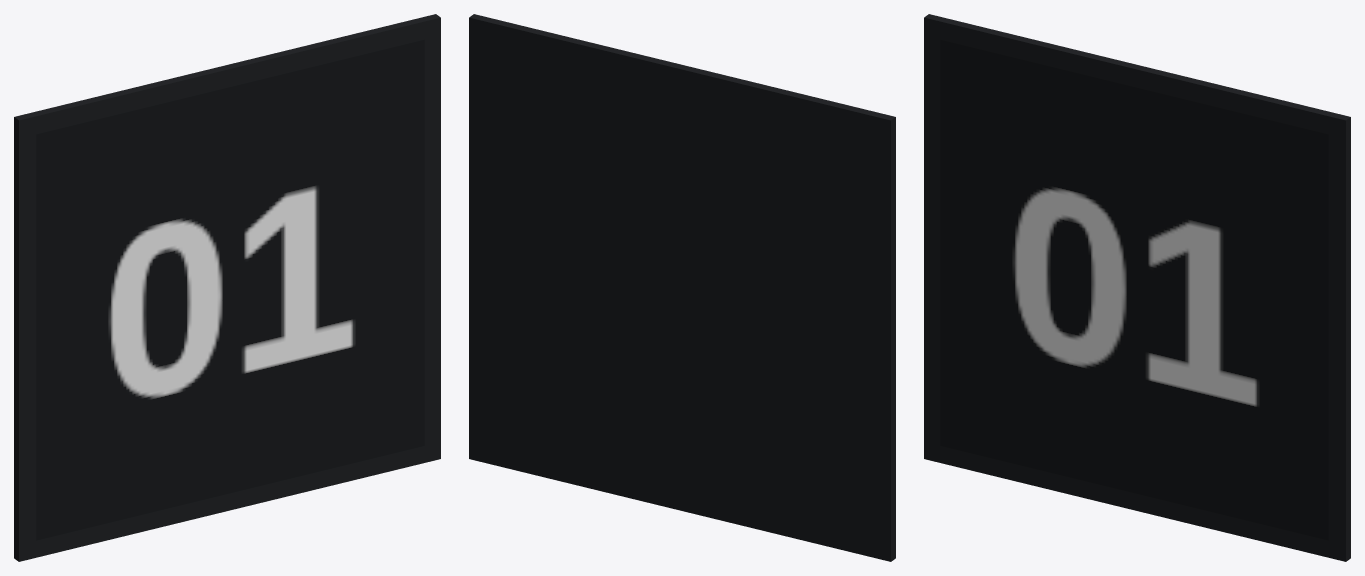
File: bay_sign_01.glb
3 views of the same model, side by side, from view 1: azimuth 30°, elevation 25°; view 2: azimuth 150°, elevation 25°; view 3: azimuth 330°, elevation 25° (orthographic).
Parts seen in each view (by area): view 1: Bay_Sign_01, Bay_Sign_01_black_paint; view 2: Bay_Sign_01_black_paint; view 3: Bay_Sign_01, Bay_Sign_01_black_paint.
Part boxes in pixels (x1,y1,x2,y2): Bay_Sign_01: [36, 39, 424, 540]; Bay_Sign_01_black_paint: [14, 14, 440, 561]; Bay_Sign_01_black_paint: [469, 14, 895, 561]; Bay_Sign_01: [940, 39, 1328, 540]; Bay_Sign_01_black_paint: [924, 14, 1350, 561].
Bounding box in the file's own units: 0.5 × 0.5 × 0.0111.
2 materials, 1 textured.
